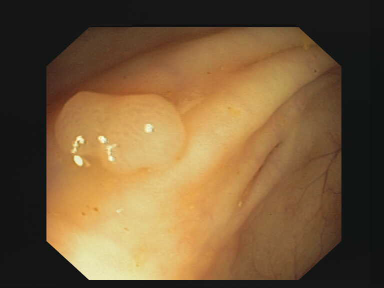polyp: (59, 78, 207, 185)
